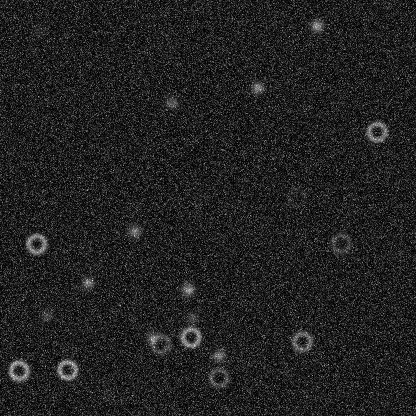Ring: (178, 325, 202, 349), (24, 231, 48, 255), (55, 357, 79, 381), (148, 331, 172, 355), (284, 184, 308, 208), (6, 358, 30, 382), (328, 231, 352, 255), (206, 365, 230, 389), (364, 119, 388, 143), (289, 329, 313, 353)
Spot: (38, 307, 54, 323), (308, 17, 324, 33), (79, 274, 95, 290), (180, 281, 196, 297), (249, 79, 265, 95), (30, 22, 46, 38), (210, 347, 226, 363), (184, 309, 200, 325), (163, 94, 179, 110), (144, 330, 160, 346), (126, 223, 142, 239), (98, 387, 114, 403)
